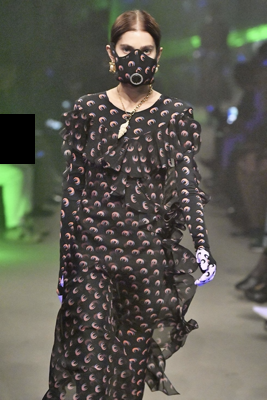with_mask: (112, 40, 157, 87)
